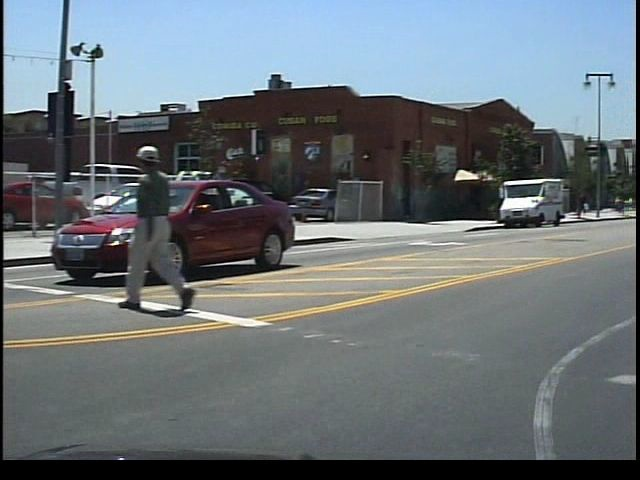person: (126, 142, 209, 314)
